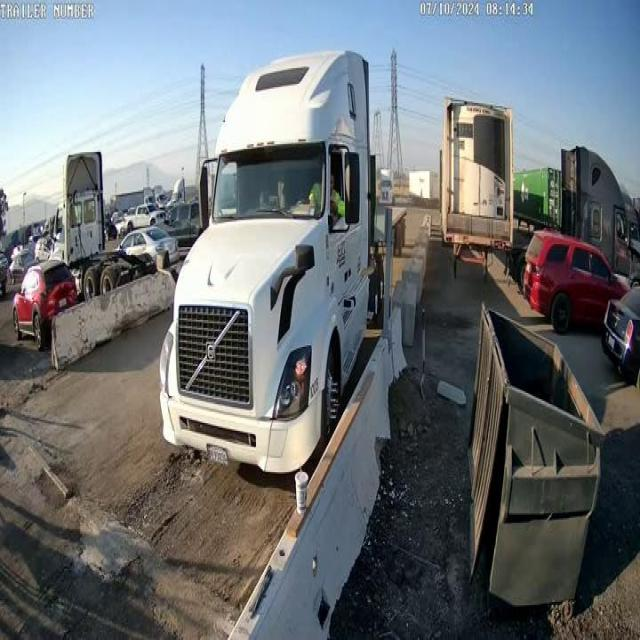TRUCK_OUT: (158, 48, 377, 478)
